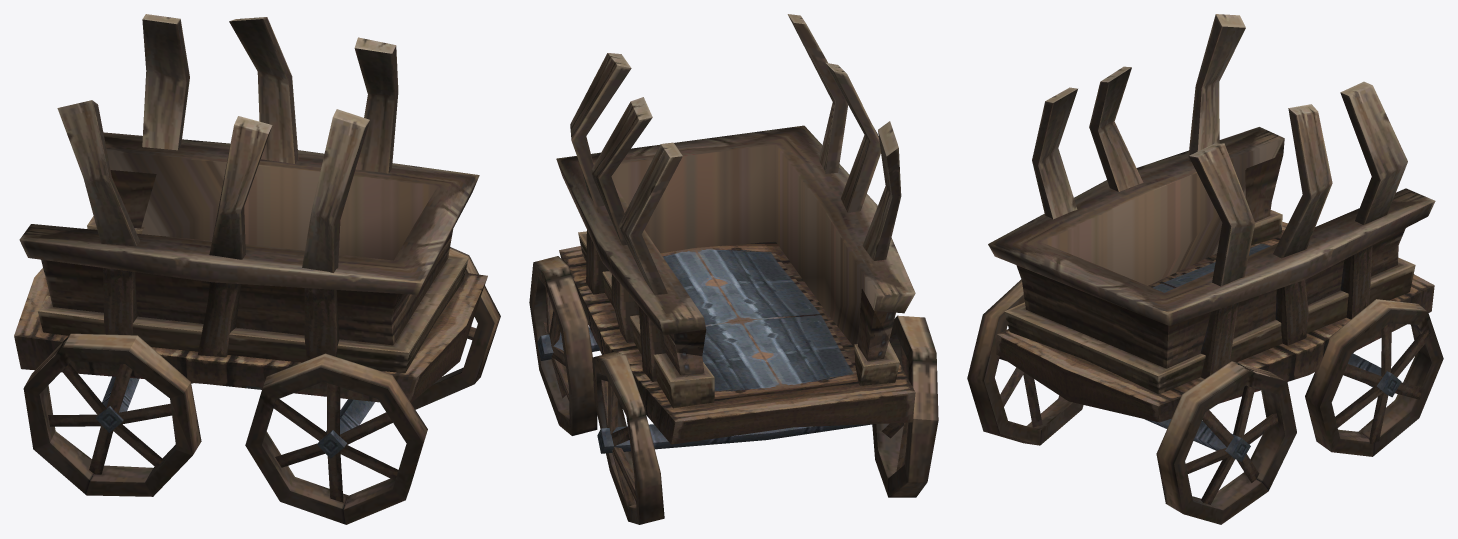
Rendered from building_caravan03.fbx.
The picture shows the model from 3 angles, left to right: view 1: azimuth 30°, elevation 25°; view 2: azimuth 150°, elevation 25°; view 3: azimuth 270°, elevation 25°; orthographic projection. The views are drawn at different scales.
Visible parts, largest first — view 1: building_caravan03-0; view 2: building_caravan03-0; view 3: building_caravan03-0.
Part boxes in pixels (box(x1,y1,x2,y2)): building_caravan03-0: box(14, 14, 500, 524); building_caravan03-0: box(529, 14, 938, 524); building_caravan03-0: box(967, 14, 1443, 524).
Bounding box in the file's own units: 4.32 × 3.62 × 4.3.
